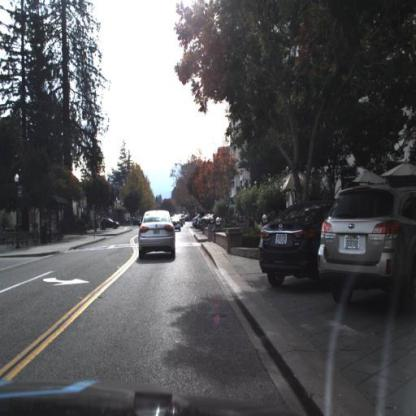car: (317, 176, 416, 311), (256, 196, 329, 286), (134, 208, 180, 270), (101, 216, 121, 234)
